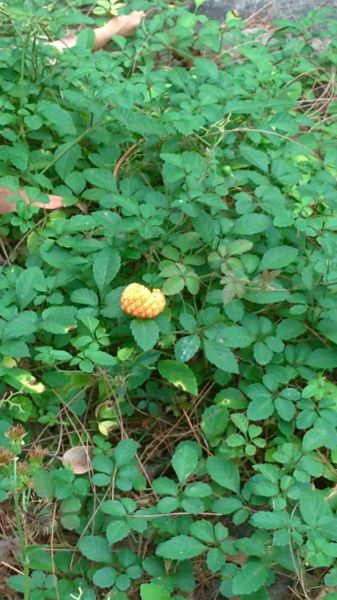eggs: (117, 276, 172, 324)
